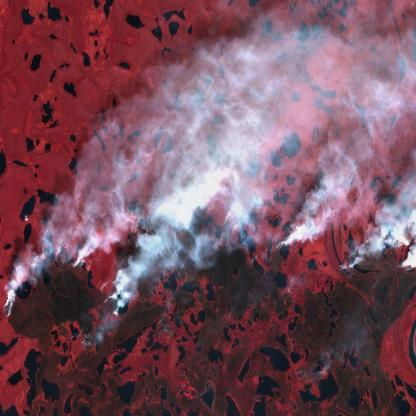fire: (0, 195, 416, 360)
